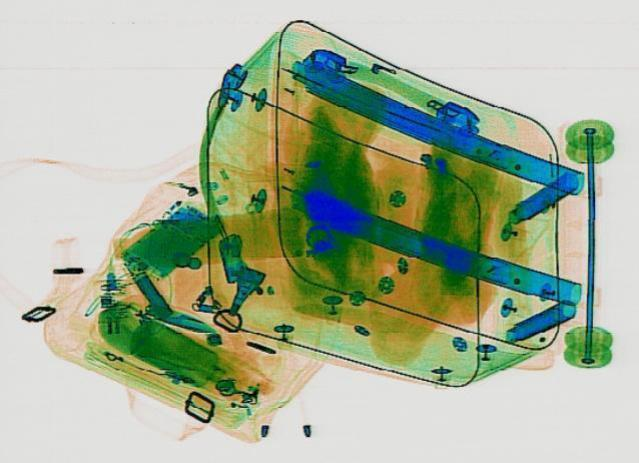Knife: (137, 298, 220, 336)
